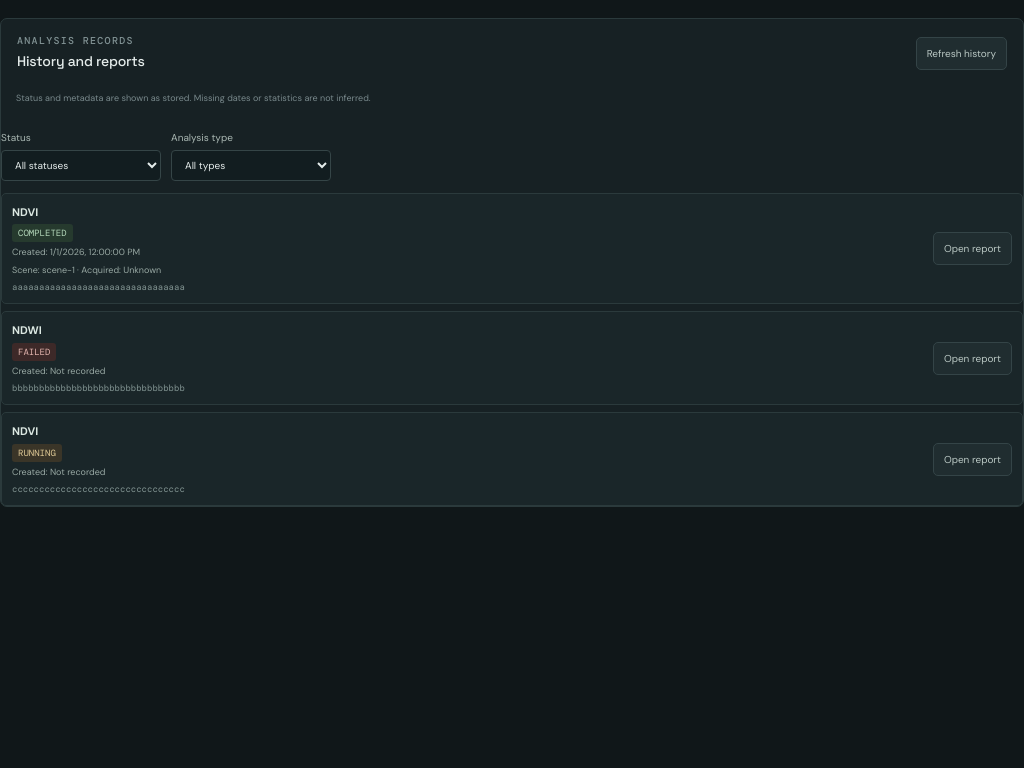
it: analysis history and report › reports unavailable artifacts while still rendering report details
This screenshot has width=1024, height=768.
Click the button "Open report" in the row of "1/1/2026, 12:00:00 PM": (972, 248) [933,232,1012,265]
(page scrolled)
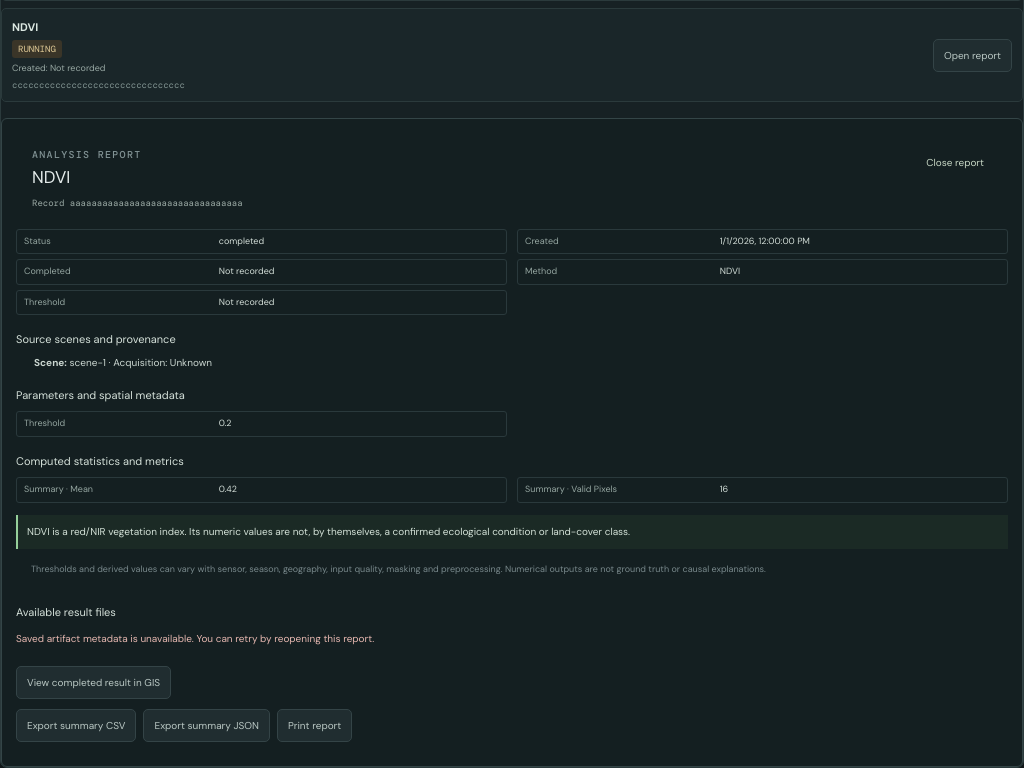
Result: the heading "NDVI" is shown at [32,166,70,188]
Result: the message shows "Saved artifact metadata is unavailable" at [16,632,374,644]
